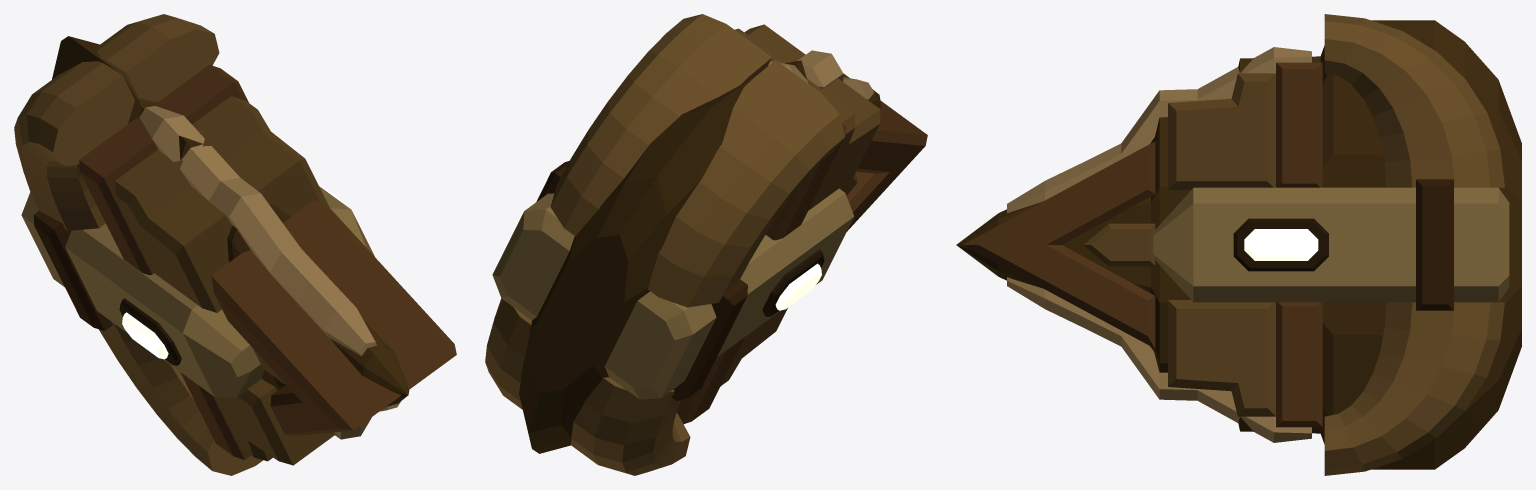
File: newsh2-171-f3.glb
The picture shows the model from 3 angles, left to right: view 1: azimuth 30°, elevation 25°; view 2: azimuth 150°, elevation 25°; view 3: azimuth 270°, elevation 25°; orthographic projection. The views are drawn at different scales.
Visible parts, largest first — view 1: newsh2-171-f3; view 2: newsh2-171-f3; view 3: newsh2-171-f3.
Part boxes in pixels (x1,y1,x2,y2): newsh2-171-f3: [14, 14, 456, 475]; newsh2-171-f3: [485, 14, 927, 475]; newsh2-171-f3: [956, 14, 1521, 475].
Bounding box in the file's own units: 0.6899 × 0.9352 × 1.11.
